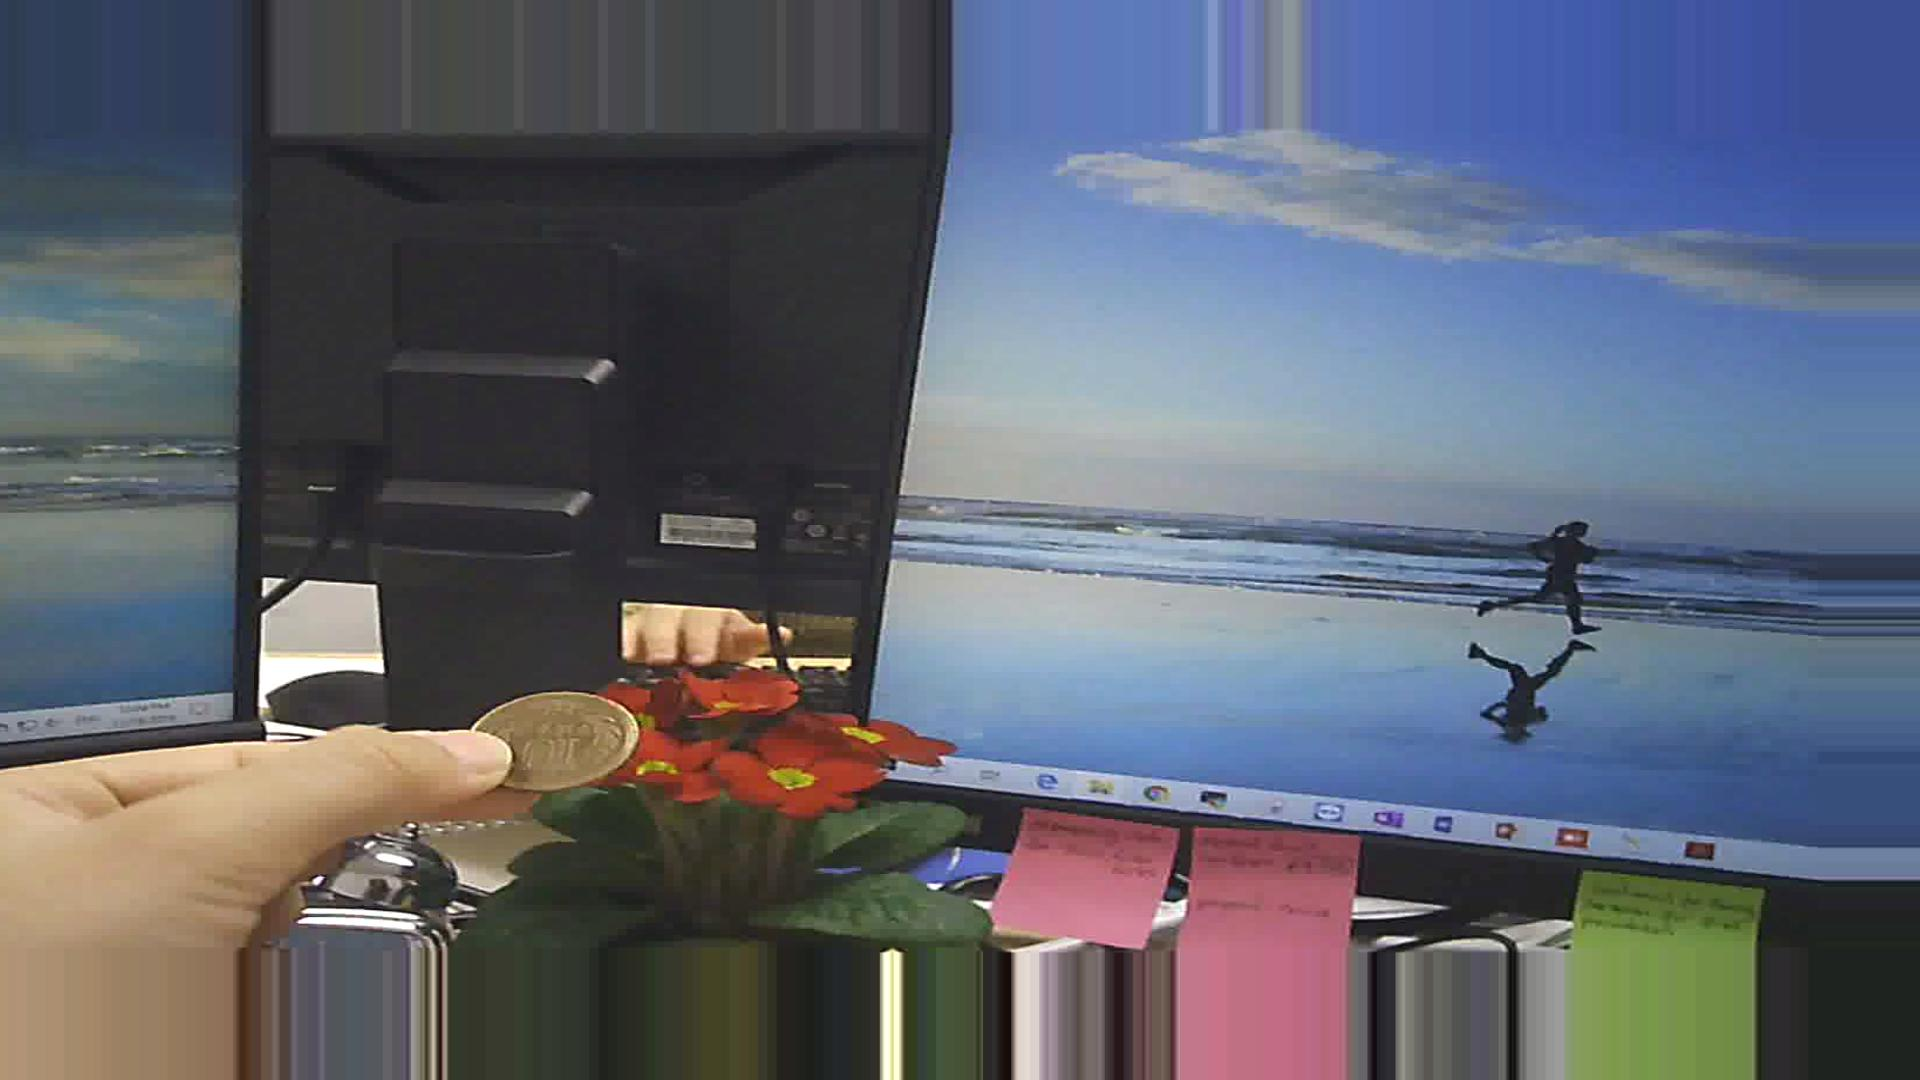10 Yen: (456, 679, 649, 795)
